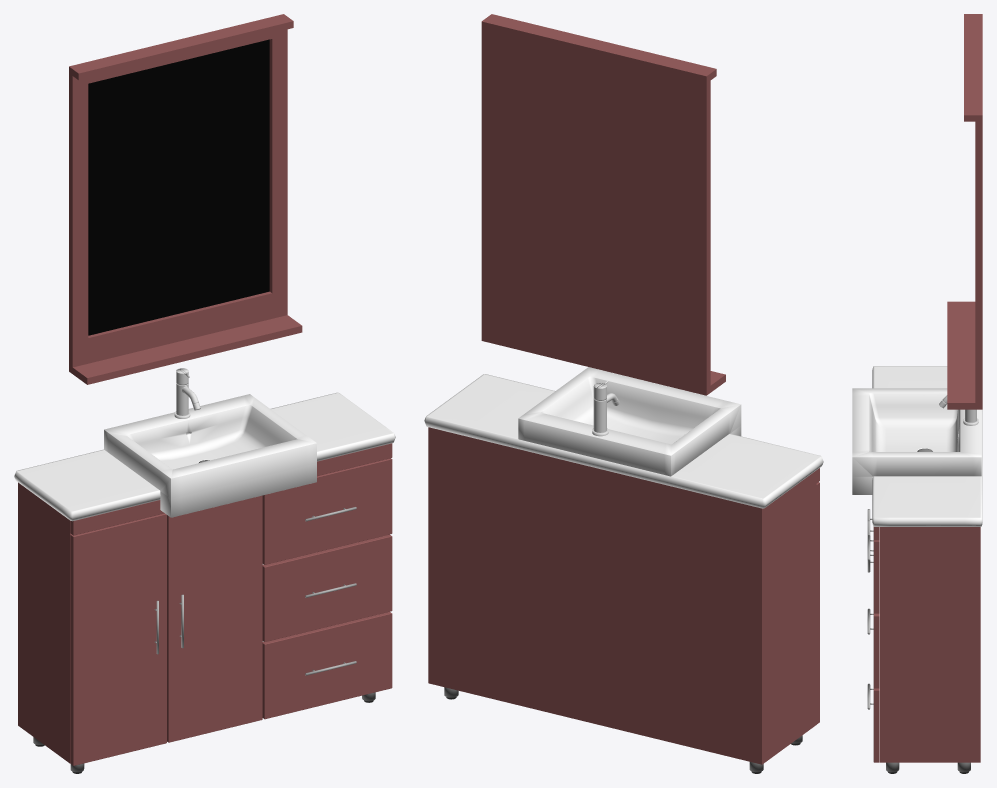
Rendered from bathroom_vanity.glb.
The picture shows the model from 3 angles, left to right: view 1: azimuth 30°, elevation 25°; view 2: azimuth 150°, elevation 25°; view 3: azimuth 270°, elevation 25°; orthographic projection. The views are drawn at different scales.
Visible parts, largest first — view 1: mirror_Cube.025, mirror_frame_Cube.024, right_door_cabinet_Cube.020, left_door_cabinet_Cube.021, sink_Cube, base_Cube.002, marble_Cube.001, middle_drawer_Cube.013, bottom_drawer_Cube.014, top_drawer_Cube.004, trim_Cube.003, faucet.001_Circle; view 2: base_Cube.002, mirror_frame_Cube.024, sink_Cube, marble_Cube.001, right_door_cabinet_Cube.020, faucet.001_Circle; view 3: base_Cube.002, sink_Cube, marble_Cube.001, mirror_frame_Cube.024, middle_drawer_Cube.013, bottom_drawer_Cube.014, top_drawer_Cube.004, legs_Cylinder.006, faucet.001_Circle.
Part boxes in pixels (x1=…): mirror_Cube.025: x1=88, y1=39, x2=269, y2=335; mirror_frame_Cube.024: x1=69, y1=14, x2=302, y2=384; right_door_cabinet_Cube.020: x1=70, y1=513, x2=166, y2=765; left_door_cabinet_Cube.021: x1=167, y1=495, x2=262, y2=742; sink_Cube: x1=104, y1=394, x2=316, y2=517; base_Cube.002: x1=18, y1=482, x2=70, y2=763; marble_Cube.001: x1=14, y1=392, x2=395, y2=521; middle_drawer_Cube.013: x1=262, y1=534, x2=392, y2=641; bottom_drawer_Cube.014: x1=262, y1=611, x2=392, y2=719; top_drawer_Cube.004: x1=262, y1=458, x2=392, y2=564; trim_Cube.003: x1=70, y1=443, x2=392, y2=535; faucet.001_Circle: x1=174, y1=368, x2=200, y2=418; base_Cube.002: x1=428, y1=427, x2=816, y2=764; mirror_frame_Cube.024: x1=481, y1=14, x2=725, y2=395; sink_Cube: x1=518, y1=367, x2=741, y2=476; marble_Cube.001: x1=424, y1=374, x2=823, y2=508; right_door_cabinet_Cube.020: x1=816, y1=482, x2=819, y2=724; faucet.001_Circle: x1=592, y1=381, x2=619, y2=436; base_Cube.002: x1=880, y1=527, x2=980, y2=762; sink_Cube: x1=852, y1=388, x2=981, y2=494; marble_Cube.001: x1=872, y1=366, x2=982, y2=526; mirror_frame_Cube.024: x1=947, y1=14, x2=982, y2=409; middle_drawer_Cube.013: x1=873, y1=613, x2=879, y2=688; bottom_drawer_Cube.014: x1=873, y1=688, x2=879, y2=762; top_drawer_Cube.004: x1=873, y1=540, x2=879, y2=613; legs_Cylinder.006: x1=886, y1=762, x2=970, y2=773; faucet.001_Circle: x1=939, y1=395, x2=978, y2=425.
Size of the model in its own units: 1.07 by 2.08 by 0.3852.
